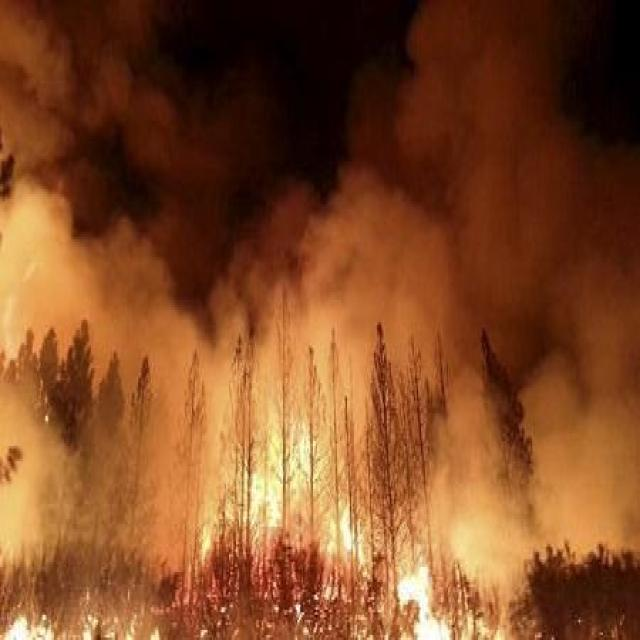fire: (182, 429, 462, 635)
smoke: (0, 12, 607, 443)
